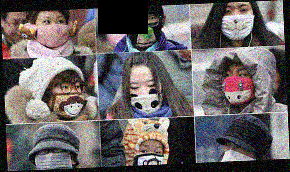with_mask: (220, 4, 258, 41), (50, 78, 86, 117), (221, 65, 255, 106), (125, 11, 162, 48), (128, 77, 164, 111), (36, 15, 68, 48), (34, 148, 75, 170), (223, 139, 255, 161), (135, 142, 164, 165)
